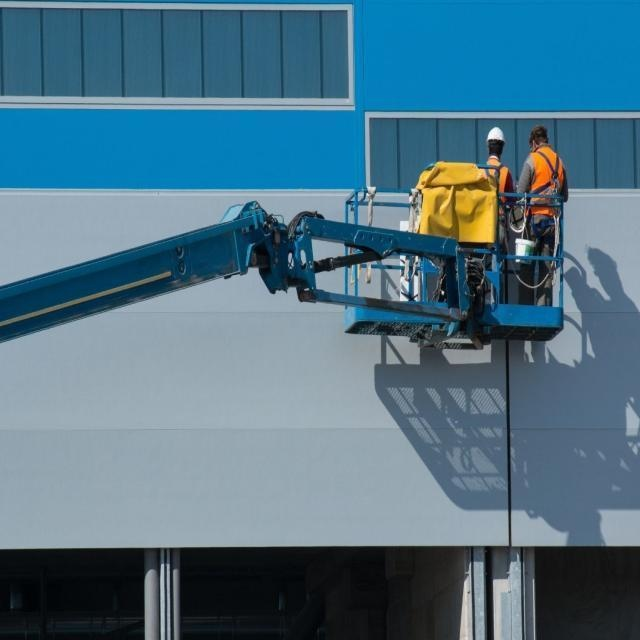Arnes_seguridad: (531, 152, 560, 245), (480, 164, 505, 254)
